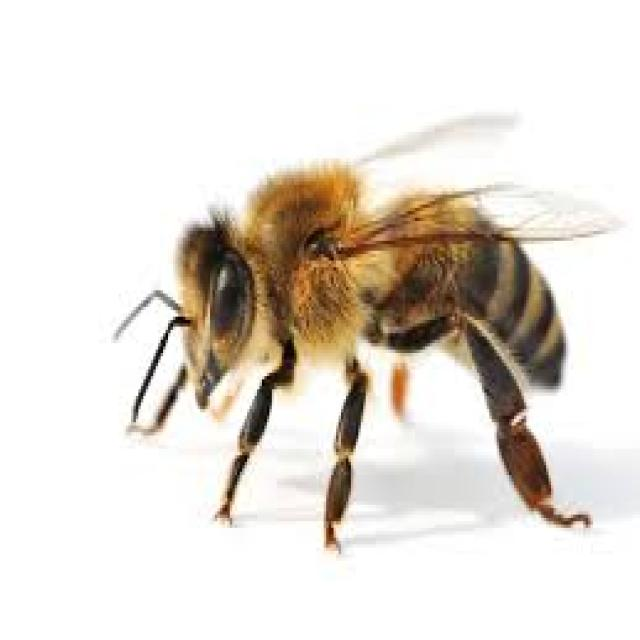Bees: (116, 103, 596, 542)
